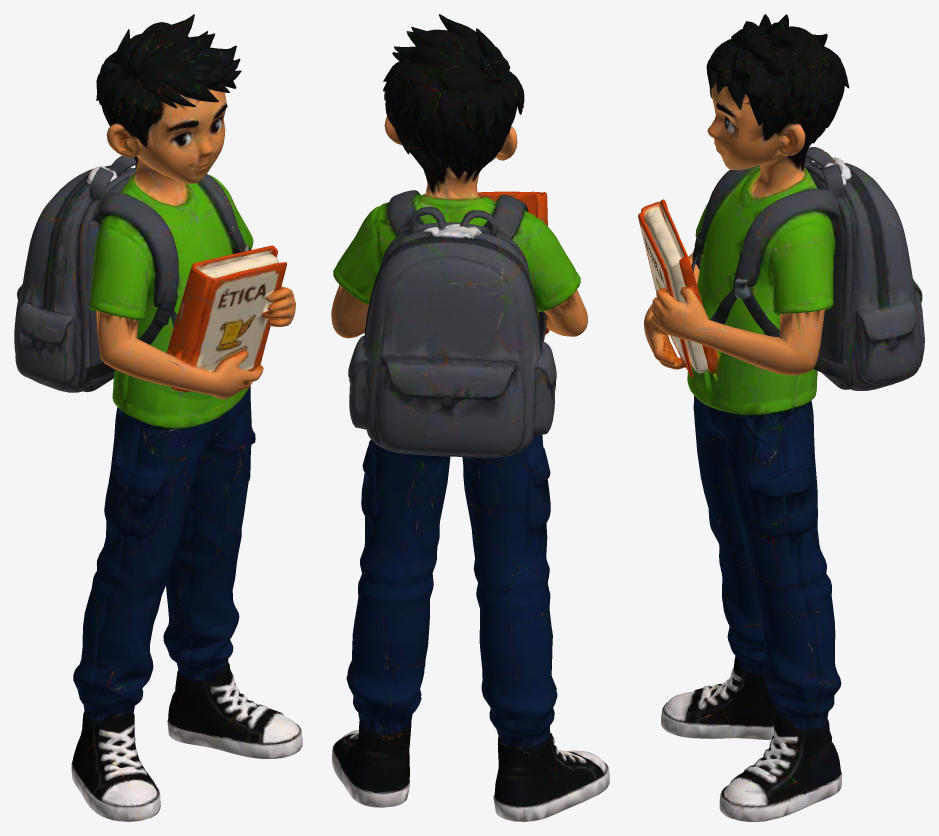
3 views of the same model, side by side, from view 1: azimuth 30°, elevation 25°; view 2: azimuth 150°, elevation 25°; view 3: azimuth 270°, elevation 25° (orthographic). The views are drawn at different scales.
Parts seen in each view (by area): view 1: geometry_0; view 2: geometry_0; view 3: geometry_0.
Boxes of the visible parts, bbox=[...] form: geometry_0: bbox=[14, 14, 302, 821]; geometry_0: bbox=[331, 14, 609, 821]; geometry_0: bbox=[638, 14, 924, 821].
Size of the model in its own units: 0.4474 by 1.29 by 0.4531.
1 material, 1 textured.
